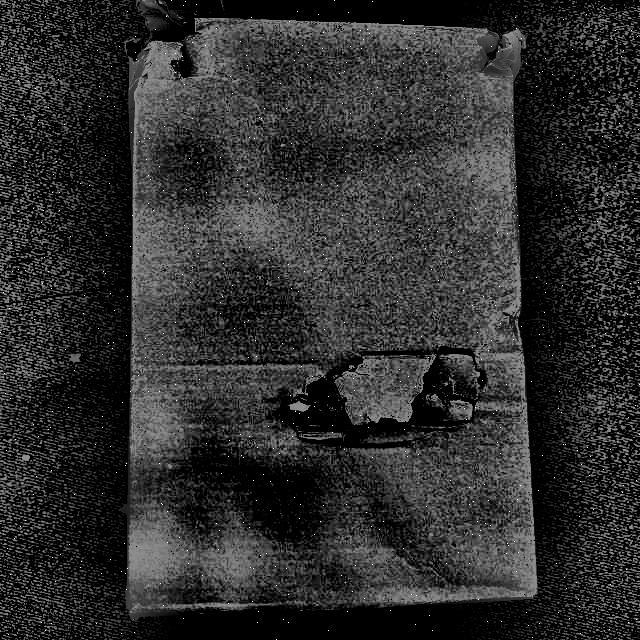box: (98, 0, 556, 627)
hole: (303, 367, 477, 440), (122, 0, 212, 70), (468, 31, 529, 83)
